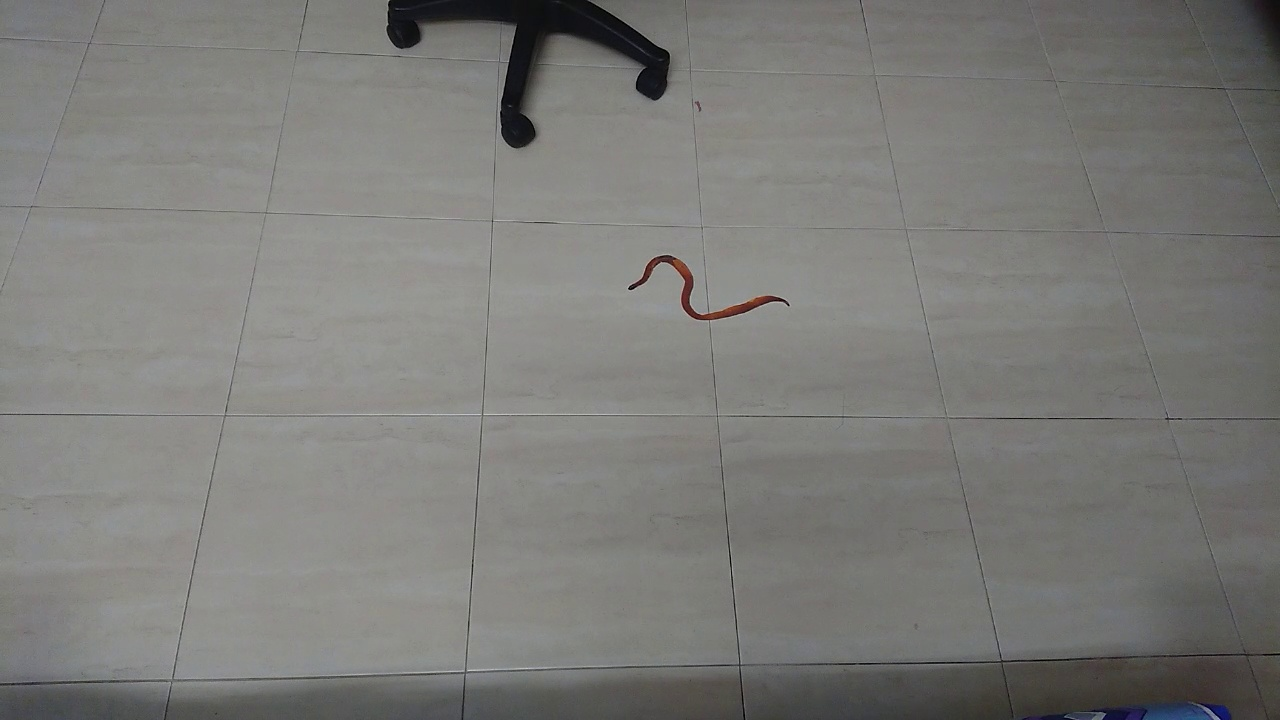snake: (607, 235, 808, 348)
